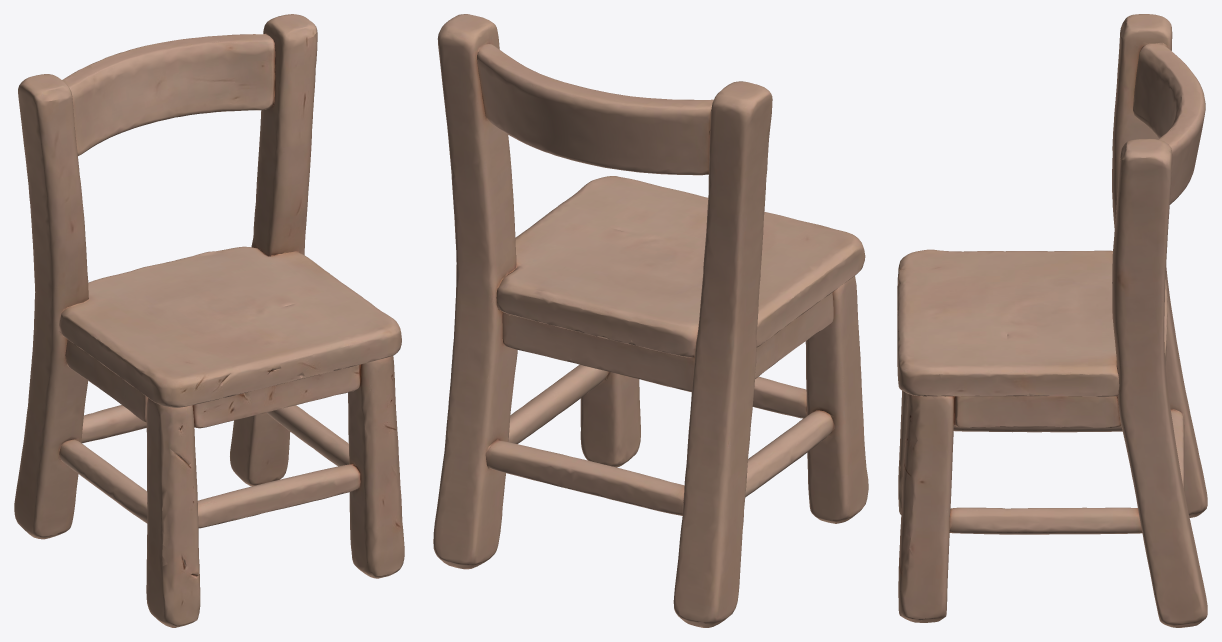
File: chair.glb
The picture shows the model from 3 angles, left to right: view 1: azimuth 30°, elevation 25°; view 2: azimuth 150°, elevation 25°; view 3: azimuth 270°, elevation 25°; orthographic projection. The views are drawn at different scales.
Parts seen in each view (by area): view 1: Mesh; view 2: Mesh; view 3: Mesh.
Part boxes in pixels (x1,y1,x2,y2): Mesh: [14, 14, 404, 627]; Mesh: [433, 14, 868, 627]; Mesh: [897, 14, 1207, 627].
Bounding box in the file's own units: 1.2 × 1.89 × 1.1.
1 material, 1 textured.
